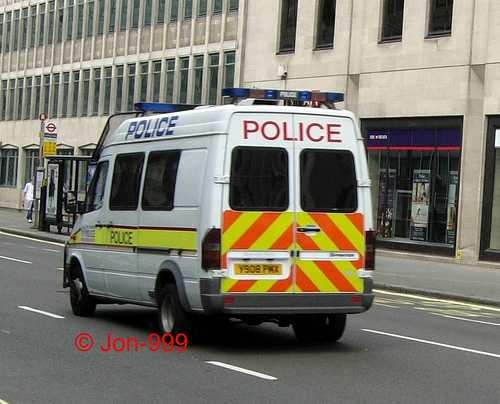Police Van: (61, 96, 380, 347)
